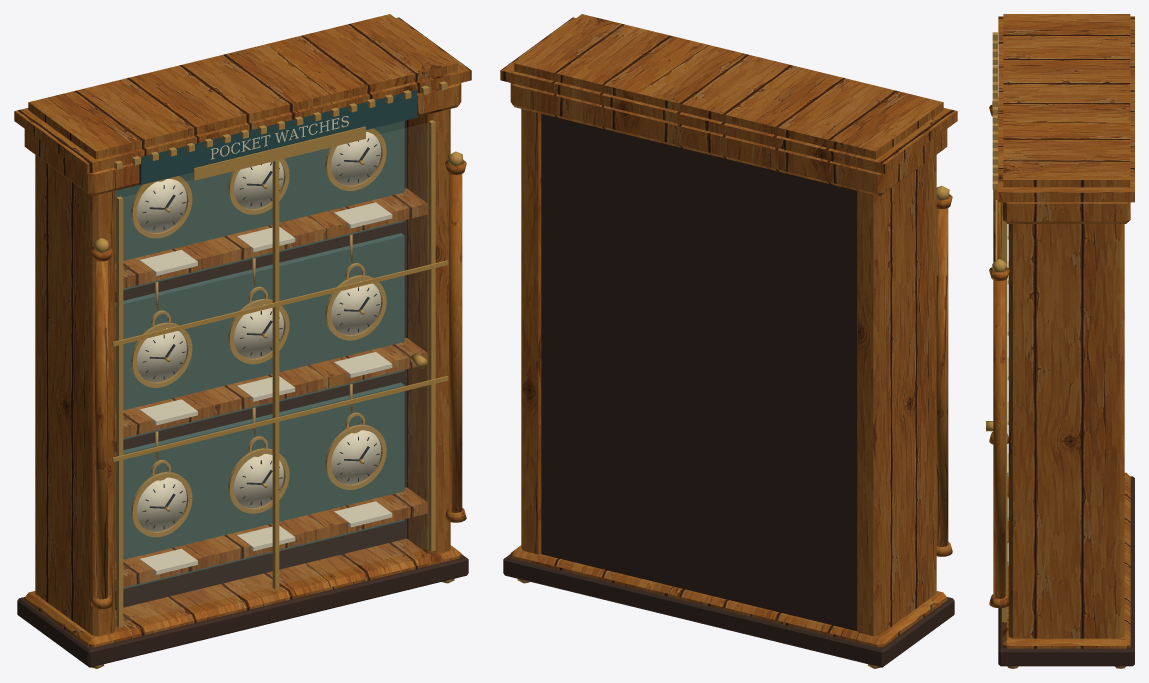
3 views of the same model, side by side, from view 1: azimuth 30°, elevation 25°; view 2: azimuth 150°, elevation 25°; view 3: azimuth 270°, elevation 25° (orthographic). The views are drawn at different scales.
Parts seen in each view (by area): view 1: clockshop_walnut, clockshop_felt, clockshop_walnut.001, clockshop_ivory, clockshop_brass, clockshop_darkwood, clockshop_darkwood.001, clockshop_brass.001, clockshop_teal, clockshop_ink; view 2: clockshop_darkwood, clockshop_walnut, clockshop_walnut.001, clockshop_darkwood.001; view 3: clockshop_walnut, clockshop_walnut.001, clockshop_darkwood.001, clockshop_brass, clockshop_brass.001, clockshop_ivory.
Part boxes in pixels (<box>): clockshop_walnut: <box>24,83,461,647</box>; clockshop_felt: <box>115,121,404,590</box>; clockshop_walnut.001: <box>14,14,471,608</box>; clockshop_ivory: <box>137,116,392,574</box>; clockshop_brass: <box>116,120,435,627</box>; clockshop_darkwood: <box>115,120,406,609</box>; clockshop_darkwood.001: <box>17,554,468,667</box>; clockshop_brass.001: <box>91,81,463,668</box>; clockshop_teal: <box>139,90,417,184</box>; clockshop_ink: <box>142,138,379,528</box>; clockshop_darkwood: <box>541,114,857,630</box>; clockshop_walnut: <box>510,83,947,647</box>; clockshop_walnut.001: <box>500,14,957,556</box>; clockshop_darkwood.001: <box>503,554,954,667</box>; clockshop_walnut: <box>1002,202,1130,648</box>; clockshop_walnut.001: <box>989,14,1134,607</box>; clockshop_darkwood.001: <box>998,476,1134,666</box>; clockshop_brass: <box>986,202,1007,622</box>; clockshop_brass.001: <box>992,32,1125,668</box>; clockshop_ivory: <box>1007,224,1008,565</box>.
Bounding box in the file's own units: 2.02 × 2.62 × 0.72.
Materials: 8 (1 with a texture image).
